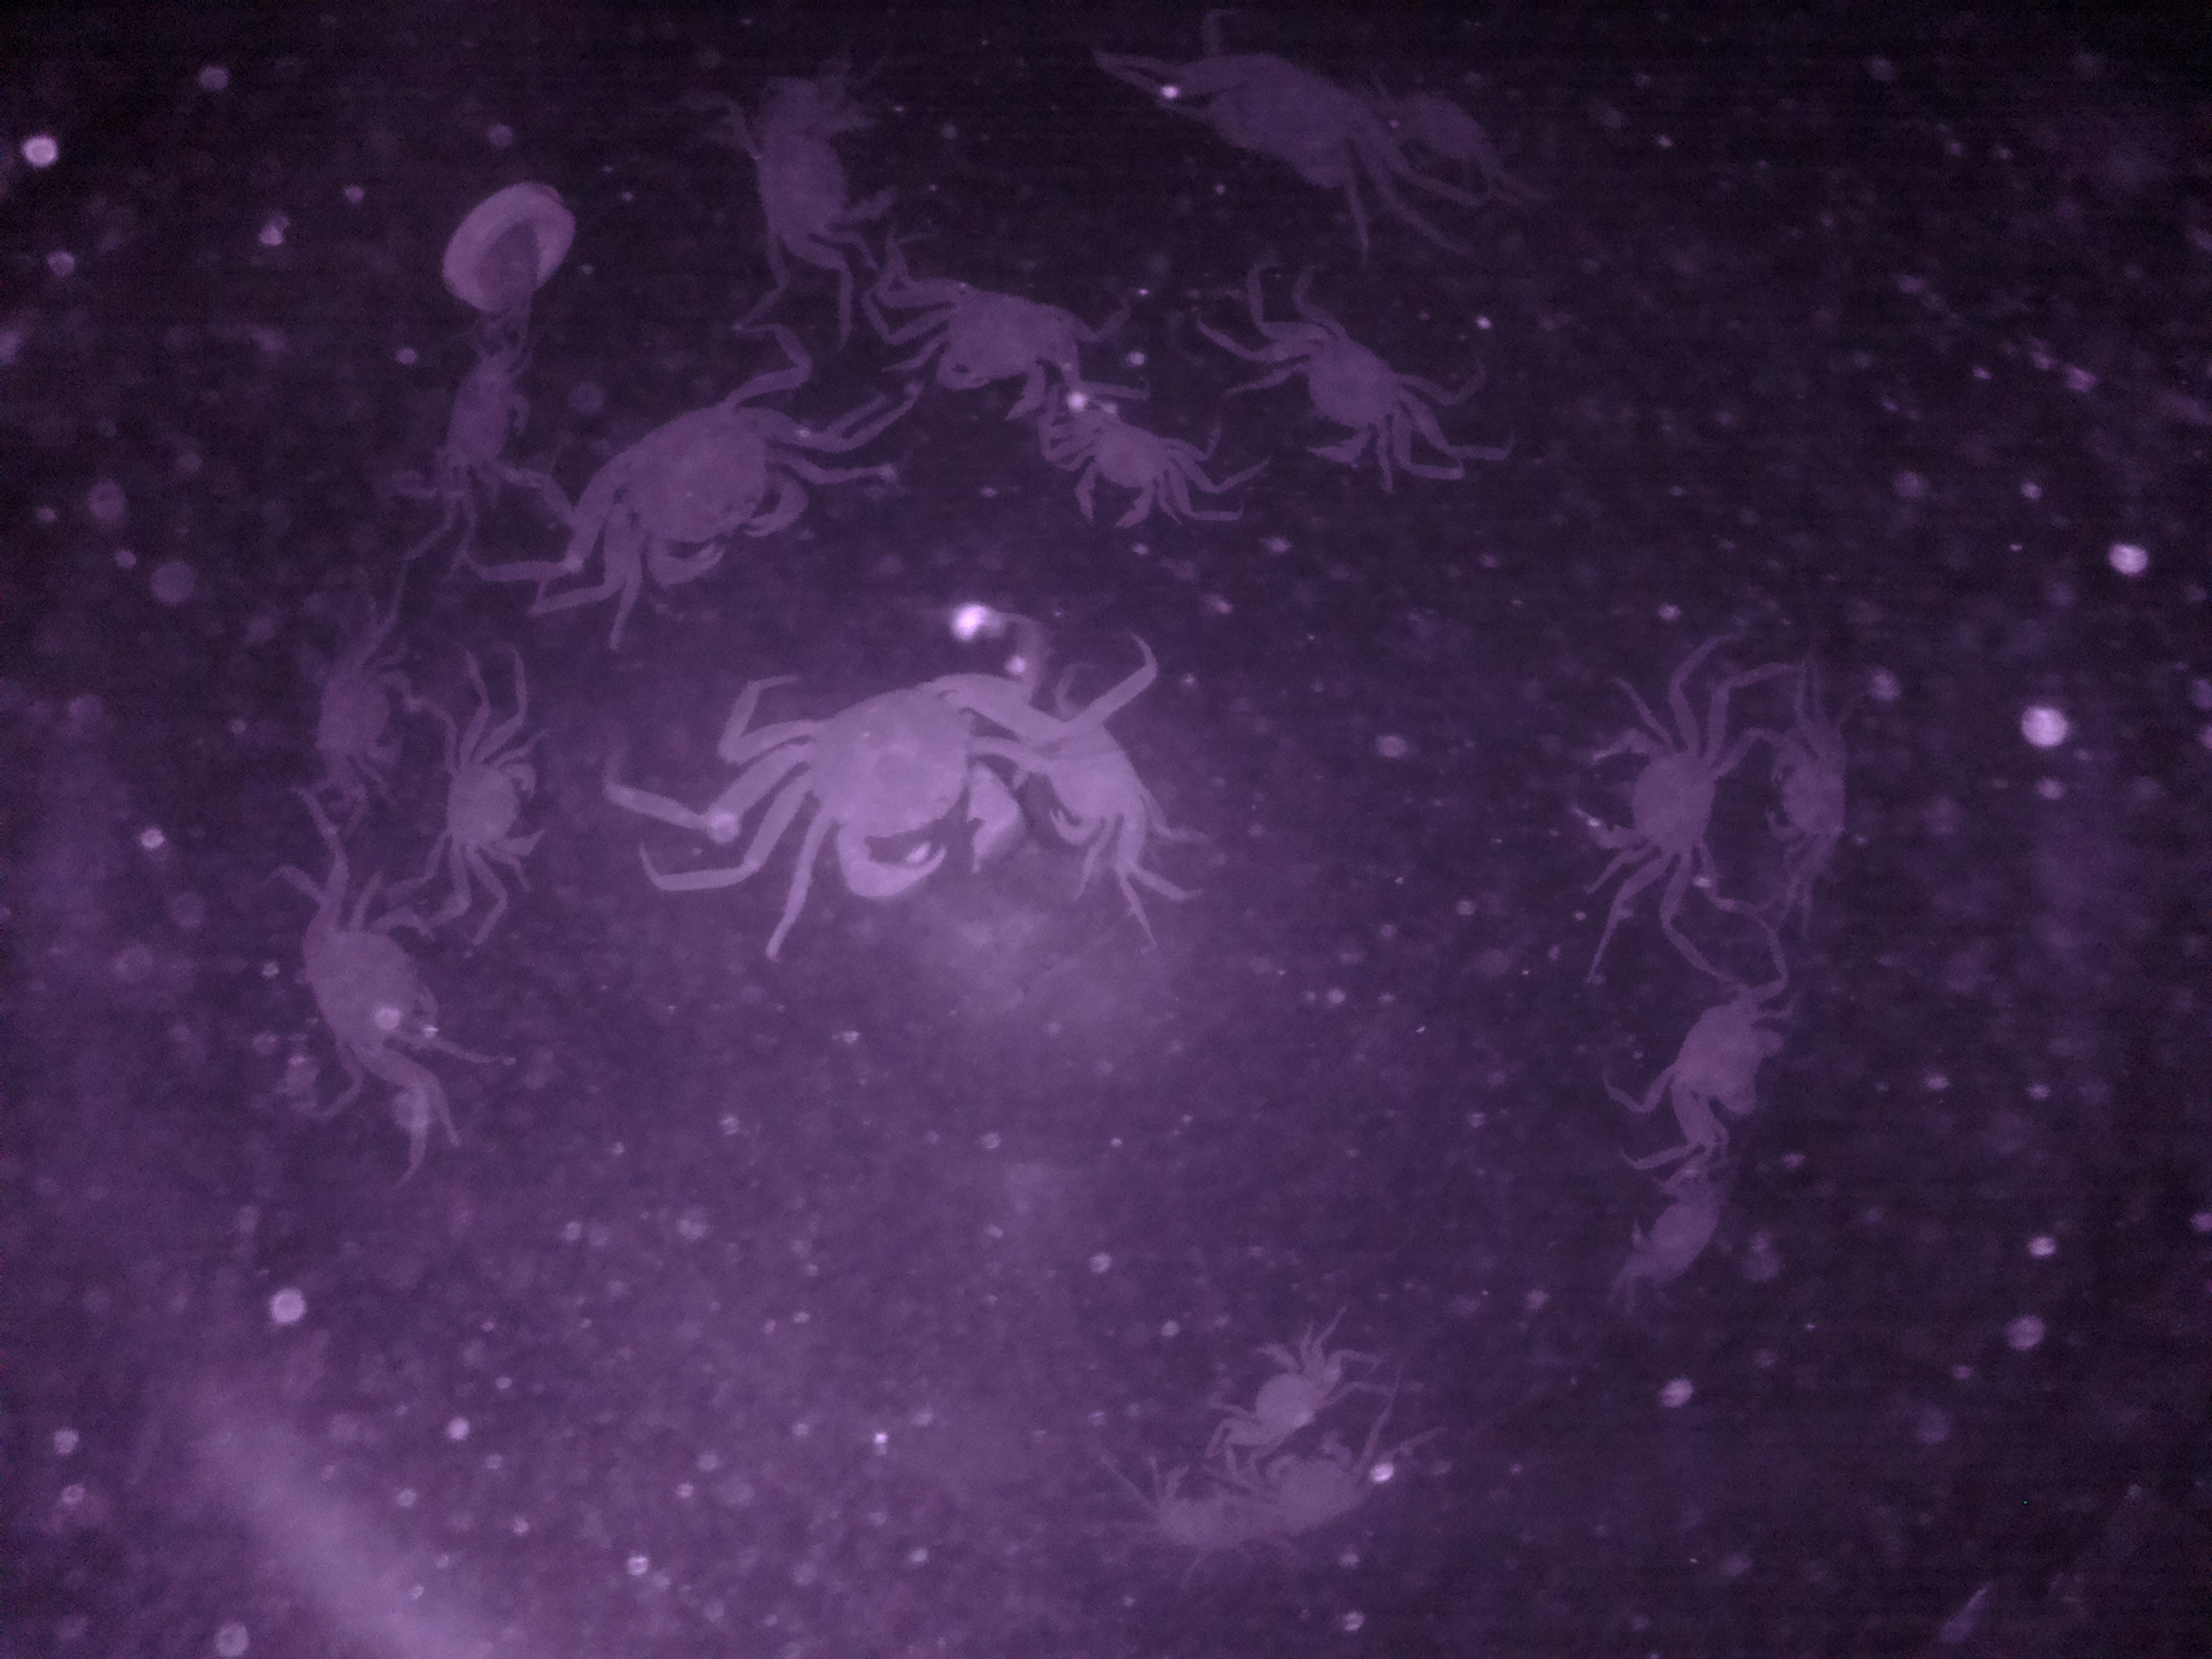Crab: (751, 659, 1036, 911), (582, 382, 831, 612), (282, 894, 469, 1100), (735, 49, 907, 268), (1237, 301, 1433, 469), (890, 270, 1103, 418), (1575, 699, 1719, 889), (1655, 979, 1797, 1150), (1761, 708, 1885, 884), (425, 734, 575, 875), (1057, 404, 1200, 547), (1224, 1323, 1345, 1464)
